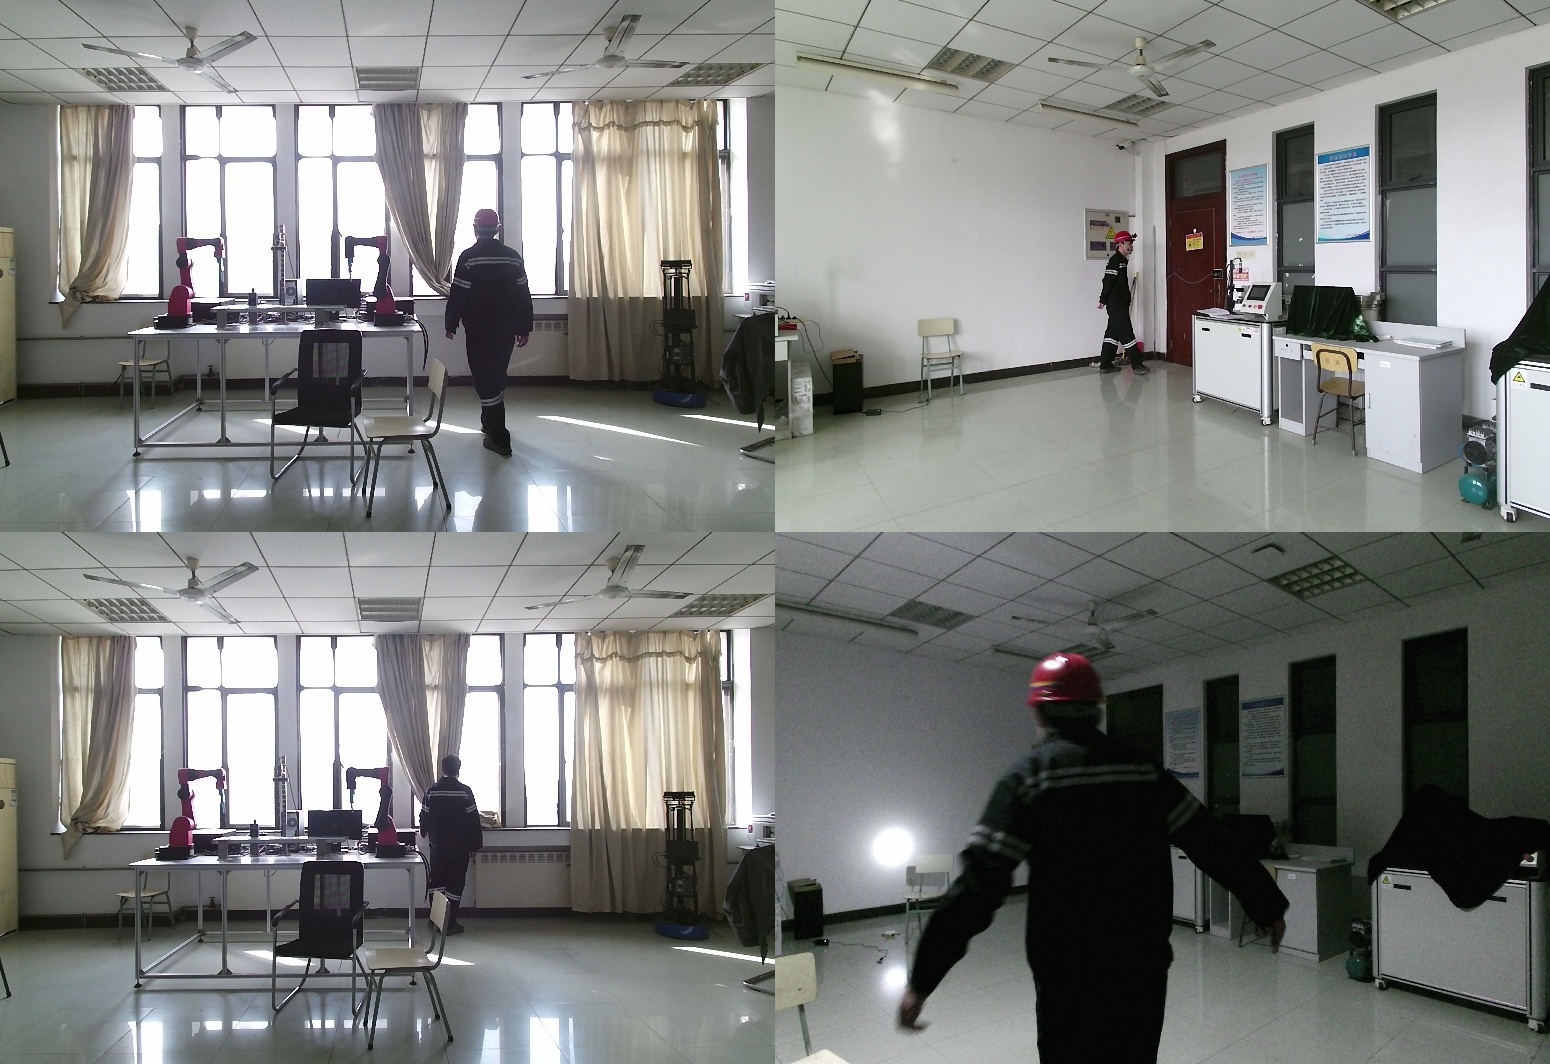person: (904, 650, 1308, 1064), (449, 206, 541, 457), (418, 754, 483, 918), (1095, 232, 1148, 375)
